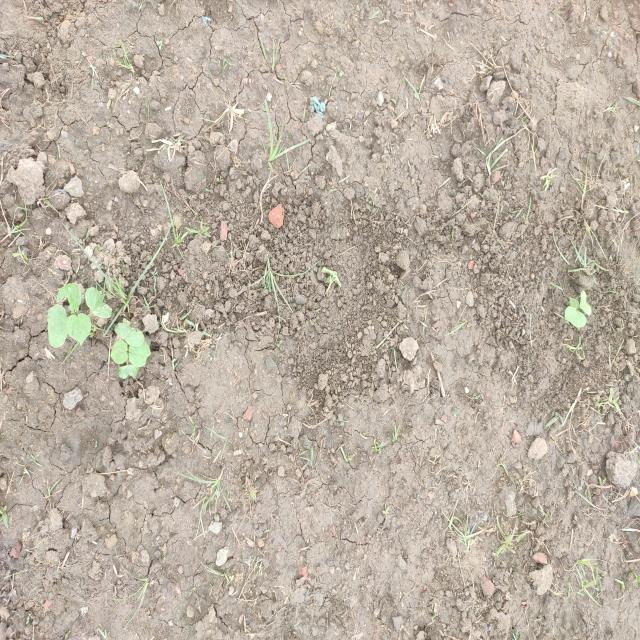seedling: (85, 288, 112, 319), (66, 313, 91, 346), (48, 305, 67, 348), (114, 323, 145, 347), (57, 283, 81, 313), (129, 342, 151, 367), (564, 306, 587, 328), (111, 340, 128, 364), (119, 364, 140, 379), (579, 291, 591, 315), (569, 296, 579, 309)
